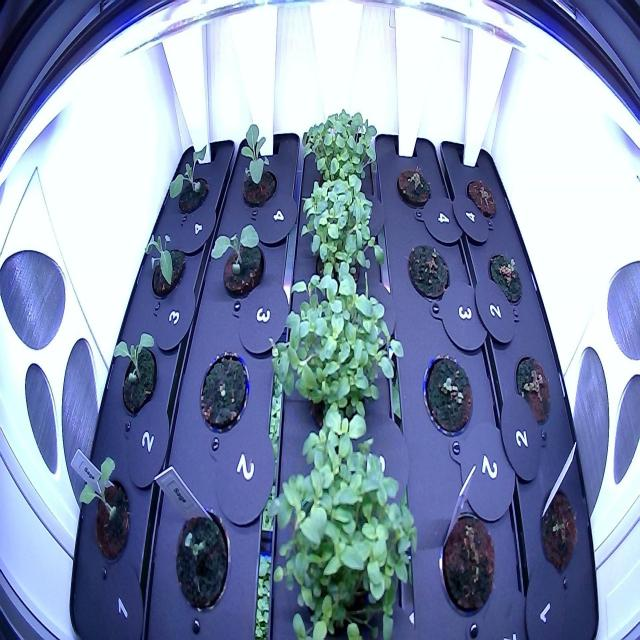germination: (431, 501, 497, 621), (168, 500, 234, 616), (194, 341, 251, 438), (420, 347, 475, 438), (535, 480, 580, 586), (510, 344, 553, 434), (403, 233, 451, 308), (483, 245, 525, 312), (393, 160, 434, 213), (465, 170, 501, 224)
